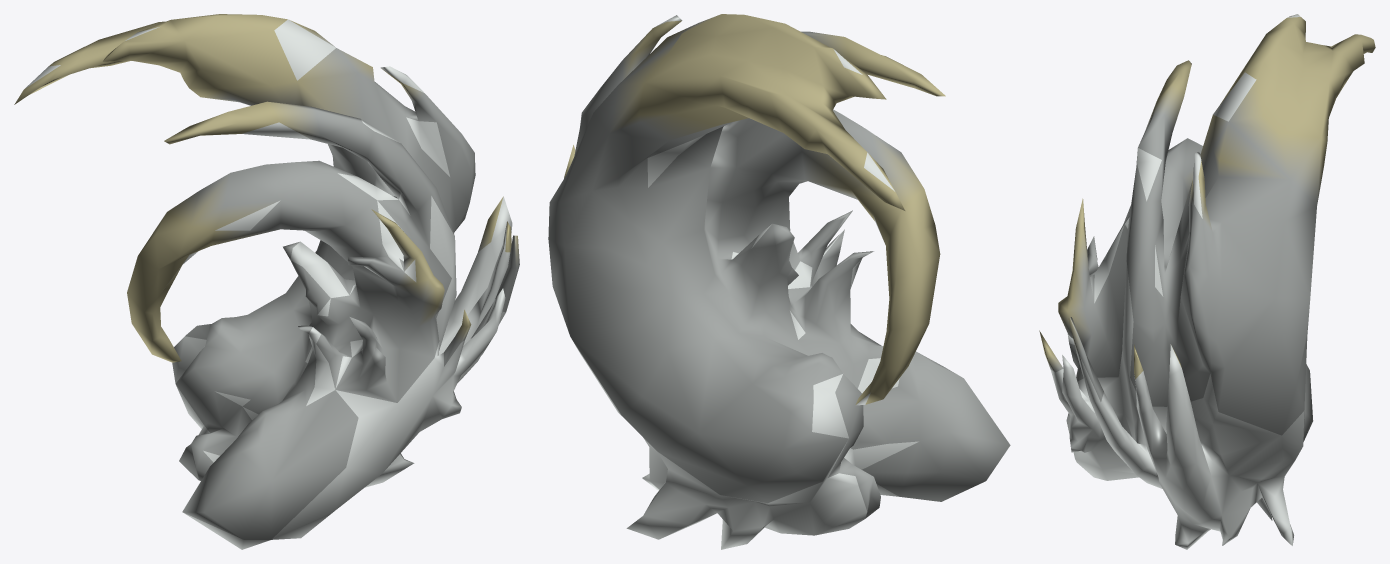
3 views of the same model, side by side, from view 1: azimuth 30°, elevation 25°; view 2: azimuth 150°, elevation 25°; view 3: azimuth 270°, elevation 25° (orthographic). The views are drawn at different scales.
Parts seen in each view (by area): view 1: G:\FFXIV-MapTools\exports\a2f1\bg\ex1\03_abr_a2\fld\a2f1\bgp (×2); view 2: G:\FFXIV-MapTools\exports\a2f1\bg\ex1\03_abr_a2\fld\a2f1\bgp (×2); view 3: G:\FFXIV-MapTools\exports\a2f1\bg\ex1\03_abr_a2\fld\a2f1\bgp (×2).
Part boxes in pixels (box(x1,y1,x2,y2)): G:\FFXIV-MapTools\exports\a2f1\bg\ex1\03_abr_a2\fld\a2f1\bgp (×2): box(14, 14, 519, 549); G:\FFXIV-MapTools\exports\a2f1\bg\ex1\03_abr_a2\fld\a2f1\bgp (×2): box(548, 14, 1010, 549); G:\FFXIV-MapTools\exports\a2f1\bg\ex1\03_abr_a2\fld\a2f1\bgp (×2): box(1039, 14, 1375, 549).
Bounding box in the file's own units: 107 × 121 × 80.53.
